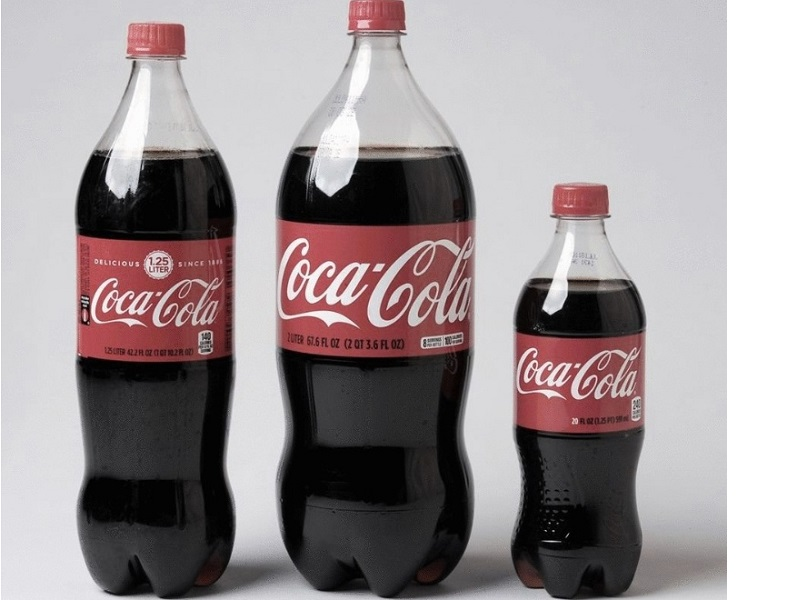lemonade: (246, 1, 493, 598), (35, 11, 264, 598), (509, 179, 662, 599)
